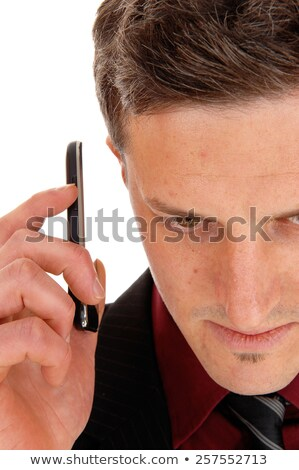phone: (34, 142, 110, 341)
